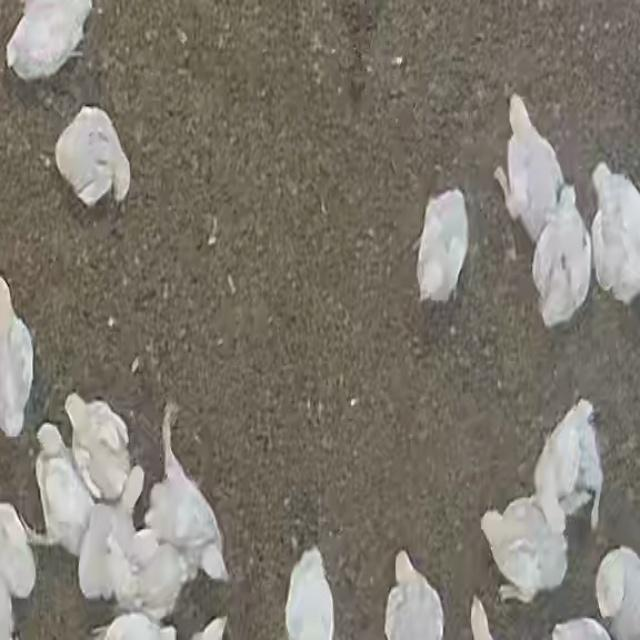chicken: (147, 409, 237, 590), (479, 493, 567, 598), (537, 398, 603, 536), (500, 95, 558, 237), (531, 183, 589, 325), (76, 465, 139, 594), (53, 107, 132, 209), (7, 0, 99, 86), (66, 391, 136, 496), (592, 156, 640, 306), (114, 531, 196, 612), (0, 274, 39, 439), (414, 191, 469, 305), (32, 434, 86, 550), (381, 547, 445, 640), (285, 545, 335, 640), (592, 541, 640, 638)
